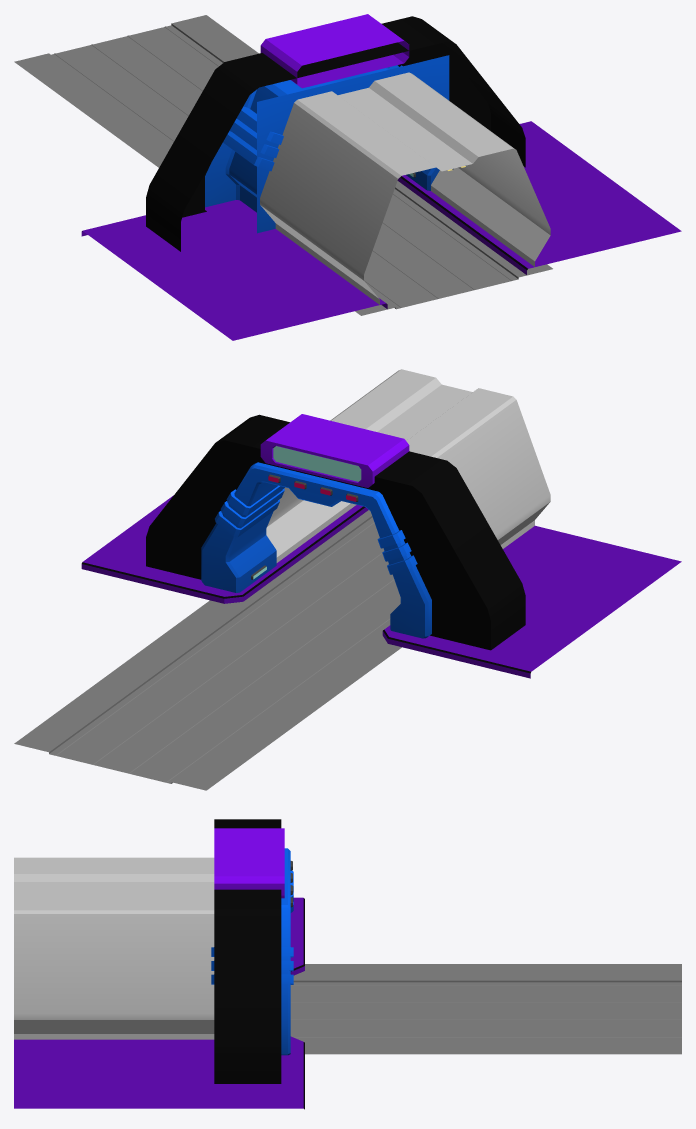
Rendered from Tunel_Tramo_Ciudad.FBX.
3 renders of one model, top to bottom at view 1: azimuth 30°, elevation 25°; view 2: azimuth 150°, elevation 25°; view 3: azimuth 270°, elevation 25°, orthographic. The views are drawn at different scales.
Parts seen in each view (by area): view 1: Tunel_Salida_Ciudad, Tunel_Tramo_Ciudad; view 2: Tunel_Salida_Ciudad, Tunel_Tramo_Ciudad; view 3: Tunel_Salida_Ciudad, Tunel_Tramo_Ciudad.
Part boxes in pixels (left/top/right/bottom): Tunel_Salida_Ciudad: left=81, top=14, right=681, bottom=340; Tunel_Tramo_Ciudad: left=14, top=15, right=552, bottom=315; Tunel_Salida_Ciudad: left=81, top=369, right=681, bottom=678; Tunel_Tramo_Ciudad: left=14, top=510, right=401, bottom=790; Tunel_Salida_Ciudad: left=14, top=819, right=304, bottom=1109; Tunel_Tramo_Ciudad: left=290, top=964, right=681, bottom=1054.
Bounding box in the file's own units: 3734 × 5000 × 1310.
